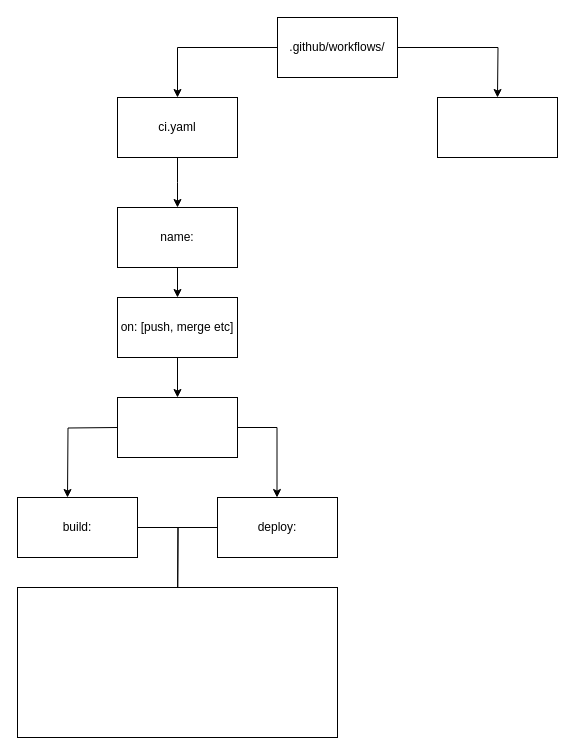
This 575x755 diagram has some shape labels left out. The centre of each missing label's shape, as x and y in pixels:
jobs:: the point at 177,427
pr.yaml: the point at 497,127
runs-on: fedora/ubuntu-latest etc steps: -name: shell: runs: |: the point at 177,662
